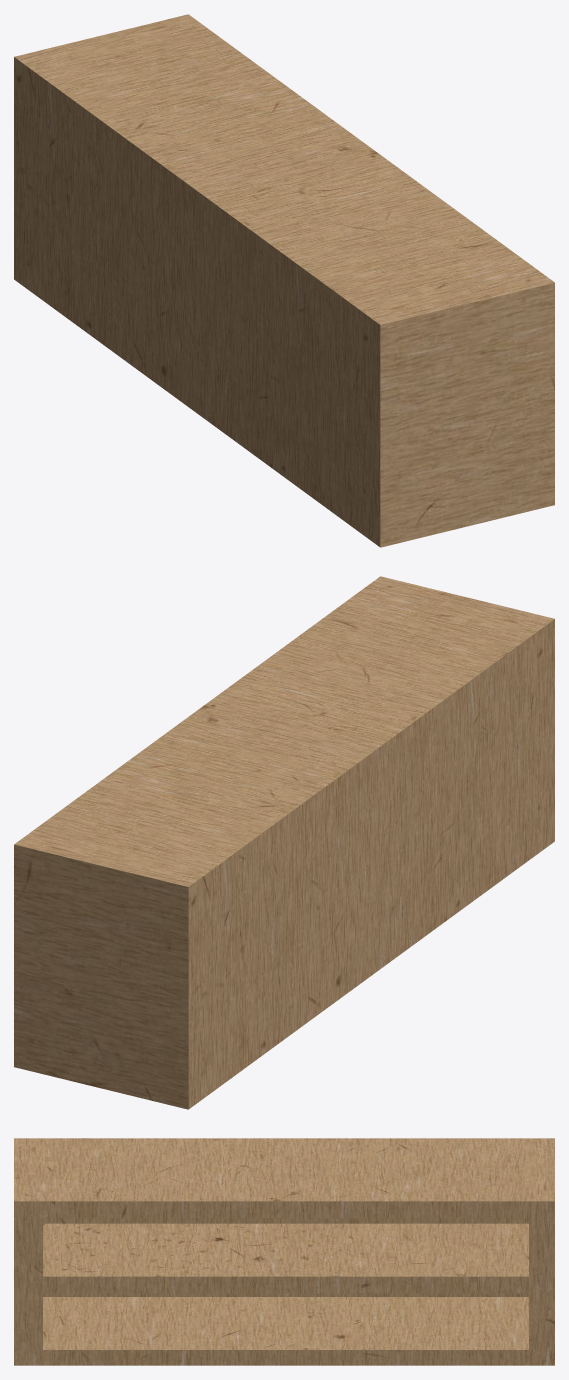
Rendered from Mueble1.fbx.
The picture shows the model from 3 angles, top to bottom: view 1: azimuth 30°, elevation 25°; view 2: azimuth 150°, elevation 25°; view 3: azimuth 270°, elevation 25°; orthographic projection. The views are drawn at different scales.
Parts seen in each view (by area): view 1: Cube; view 2: Cube; view 3: Cube.
Part boxes in pixels (x1=…): Cube: x1=14, y1=14, x2=554, y2=547; Cube: x1=14, y1=576, x2=554, y2=1109; Cube: x1=14, y1=1138, x2=554, y2=1365.
Size of the model in its own units: 164 by 200 by 597.
Materials: 1 (1 with a texture image).
